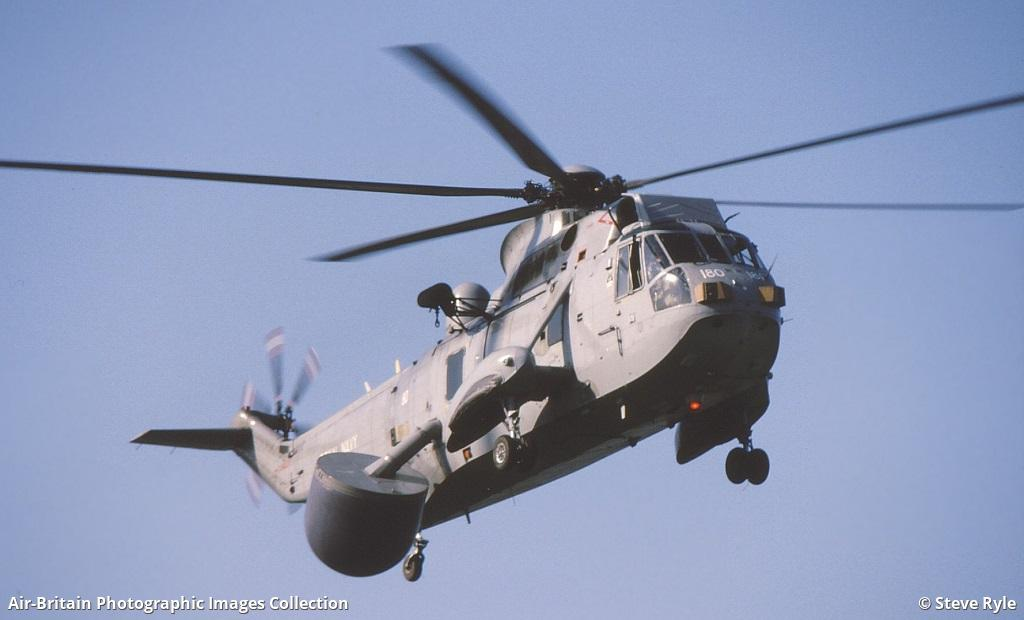Sea King: (123, 148, 795, 588)
